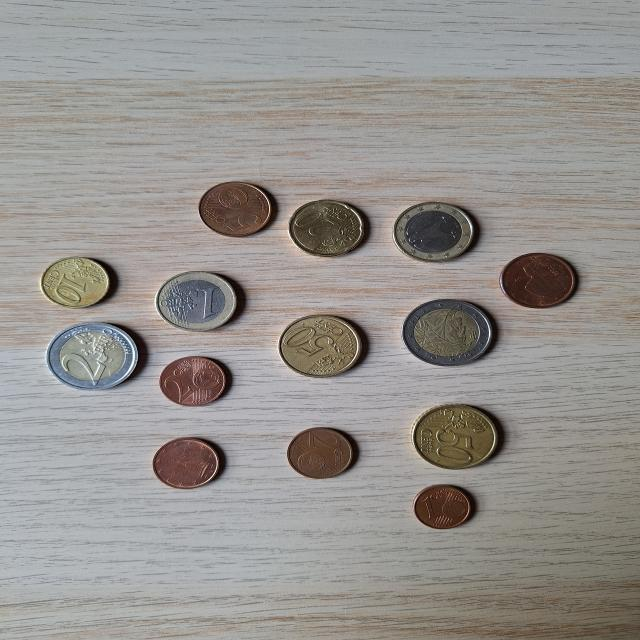10c: (40, 255, 113, 309)
1c: (412, 484, 472, 530)
1e: (392, 202, 477, 264), (155, 272, 239, 332)
20c: (288, 198, 366, 258)
2c: (159, 355, 231, 407), (285, 426, 355, 478), (153, 438, 222, 490)
2e: (45, 322, 140, 391)
50c: (410, 402, 500, 470), (278, 313, 364, 379)
5c: (197, 180, 276, 238), (499, 252, 579, 308)
